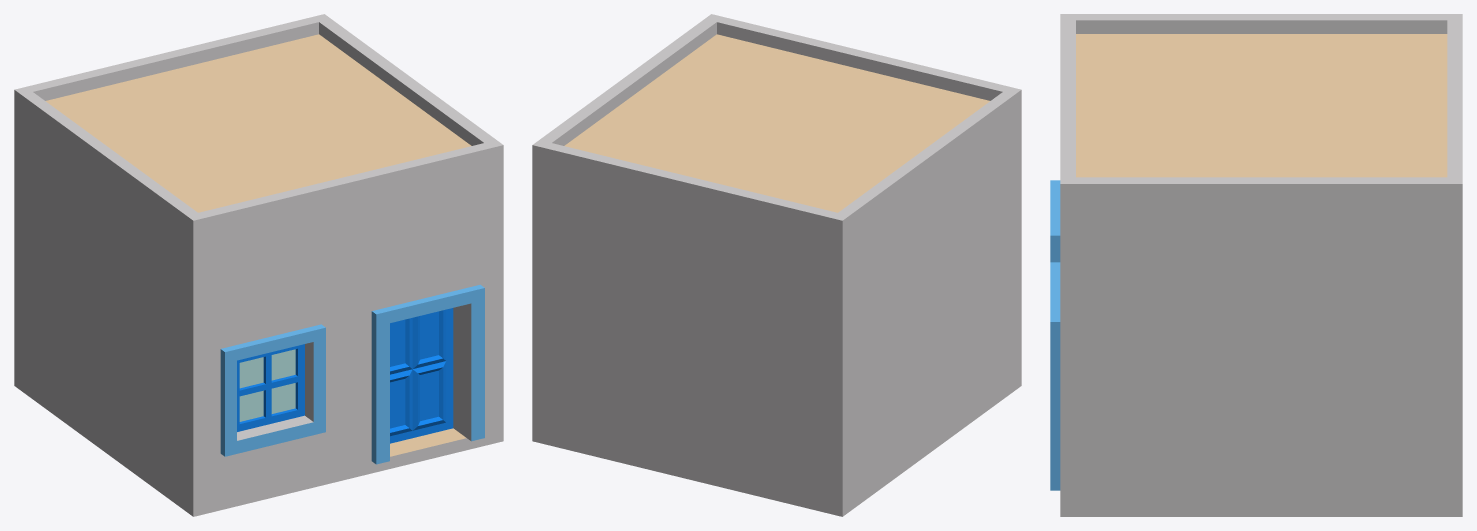
File: house_01a.fbx
The picture shows the model from 3 angles, left to right: view 1: azimuth 30°, elevation 25°; view 2: azimuth 150°, elevation 25°; view 3: azimuth 270°, elevation 25°; orthographic projection. The views are drawn at different scales.
Visible parts, largest first — view 1: house_01a; view 2: house_01a; view 3: house_01a.
Part boxes in pixels (x1,y1,x2,y2): house_01a: (14, 14, 503, 516); house_01a: (532, 14, 1021, 516); house_01a: (1050, 14, 1462, 516).
Size of the model in its own units: 400 by 365 by 410.
